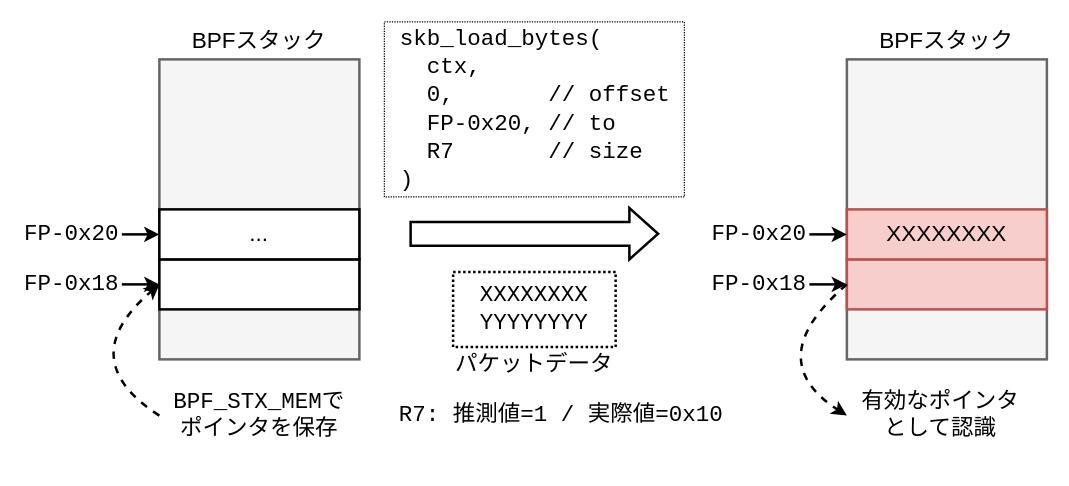
The diagram is 1069 pixels wide and 486 high, and some of its shapes have lost their labels. Here are the shapes that lost their labels. From the top down, the box of each, then its label:
(158, 258, 360, 310): マップポインタ
(845, 258, 1048, 310): YYYYYYYY
